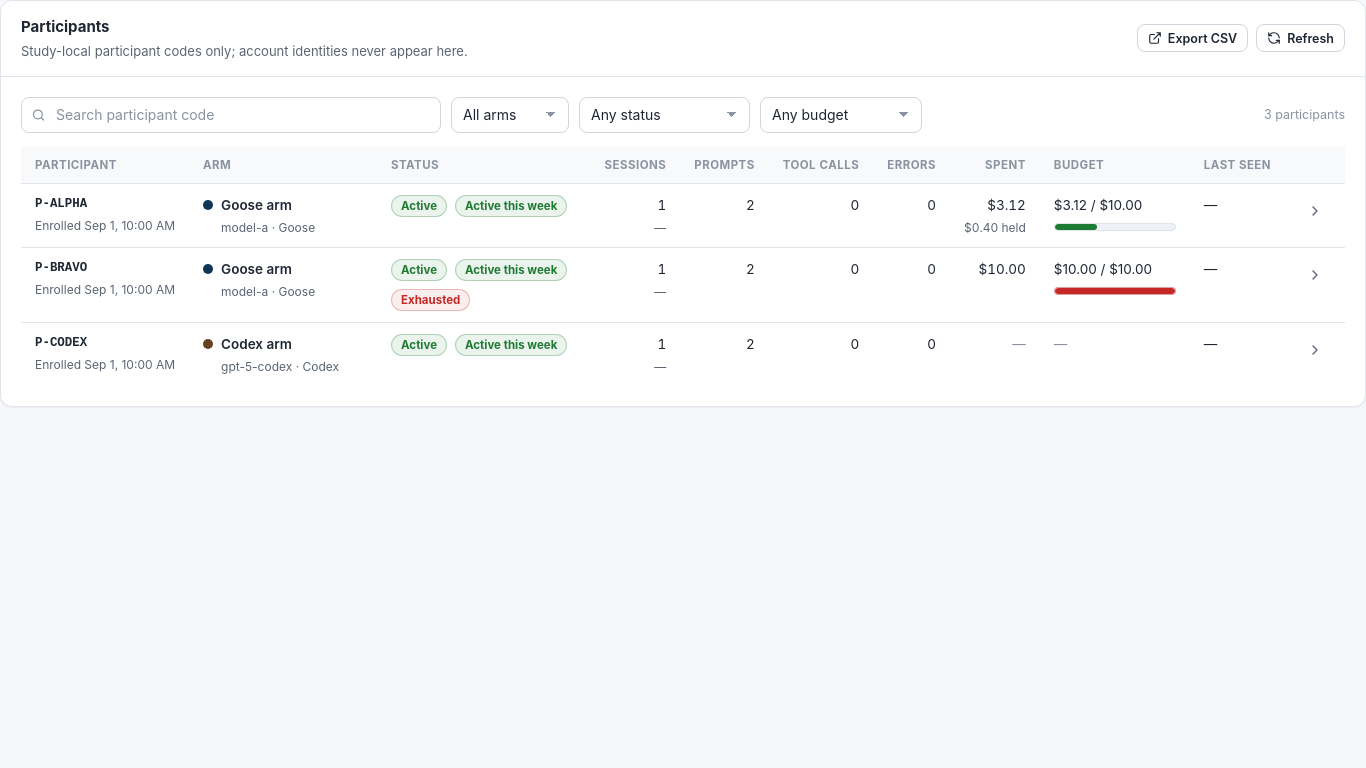
Test case: an unmetered participant has no budget panel
This screenshot has width=1366, height=768.
Click the button named "Open dashboard for participant P-CODEX".
click(1315, 350)  # box x1=1299 y1=334 x2=1331 y2=366
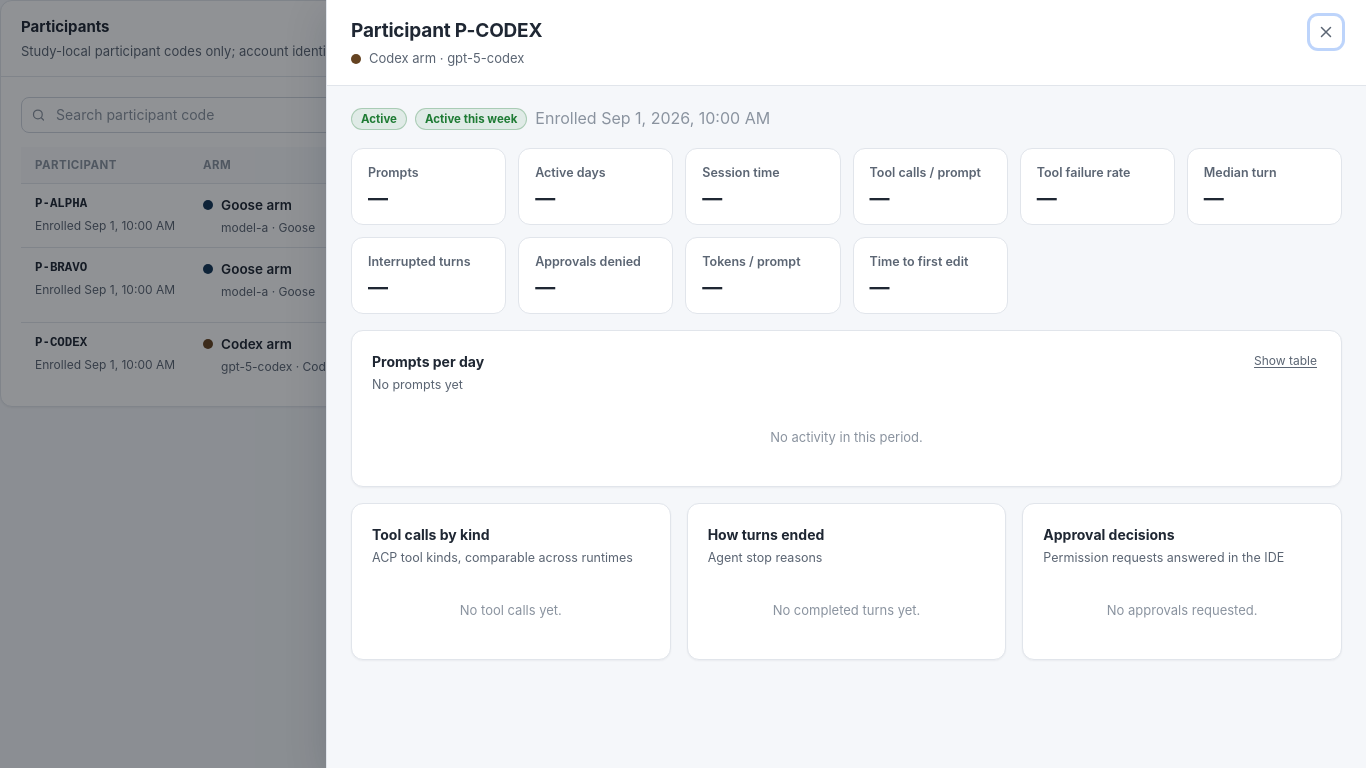
Now the dialog "Participant P-CODEX" is shown
